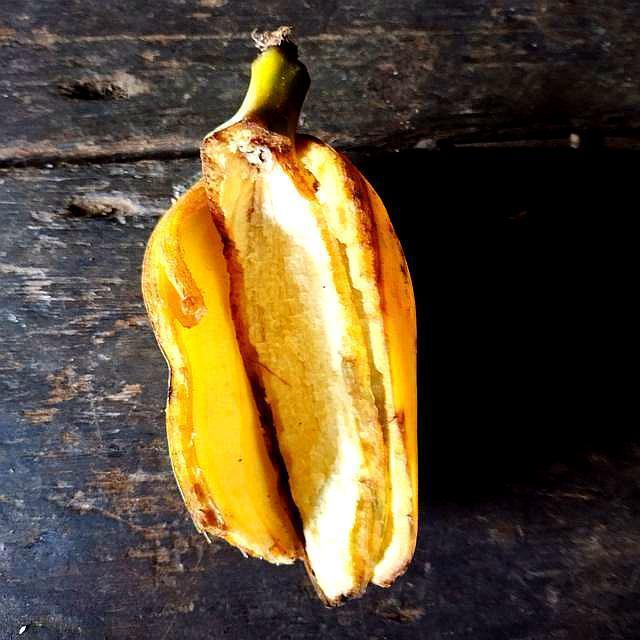Biodegradable: (141, 119, 423, 599)
